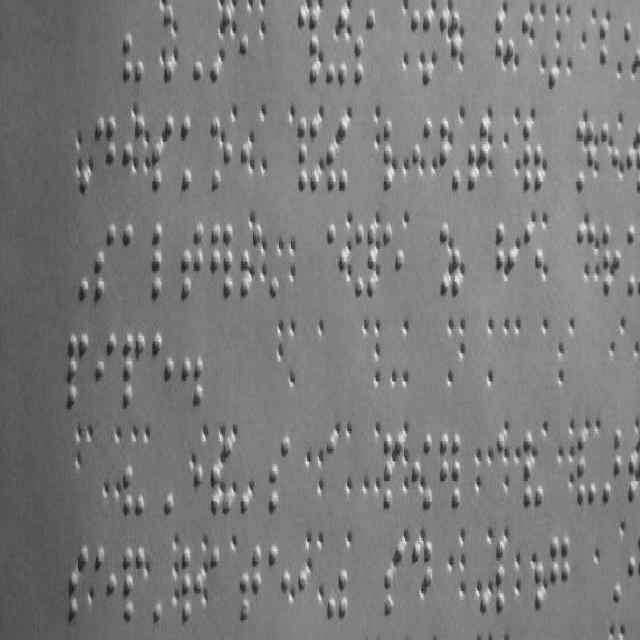braiile: (150, 218, 176, 306), (120, 540, 146, 624), (66, 541, 90, 628), (268, 430, 290, 521), (149, 330, 173, 412), (239, 544, 263, 626), (94, 222, 118, 302), (66, 328, 88, 414), (122, 332, 146, 410), (122, 220, 144, 304), (181, 218, 203, 302), (268, 540, 290, 624), (180, 116, 204, 192), (94, 330, 116, 412), (94, 541, 116, 623), (180, 544, 202, 626), (548, 534, 570, 616), (354, 220, 376, 300), (382, 220, 404, 300), (209, 544, 231, 624), (353, 6, 375, 84), (94, 112, 116, 190), (598, 20, 618, 87)
